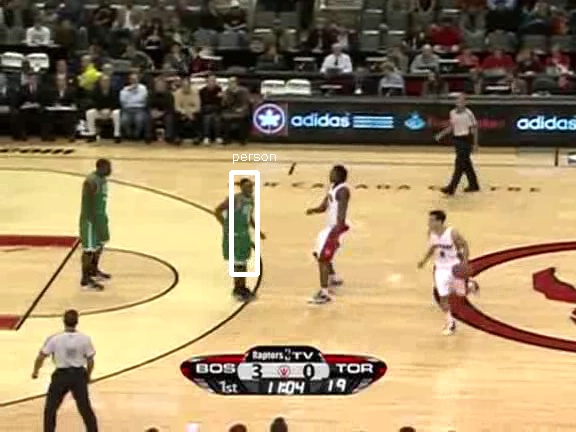person: (224, 188, 258, 269), (223, 188, 257, 269), (225, 188, 259, 269), (224, 187, 258, 268), (224, 189, 258, 270)
target_negative: (301, 276, 531, 432), (47, 169, 336, 256), (310, 136, 502, 243), (387, 217, 554, 276), (406, 256, 487, 373), (570, 285, 571, 378)
